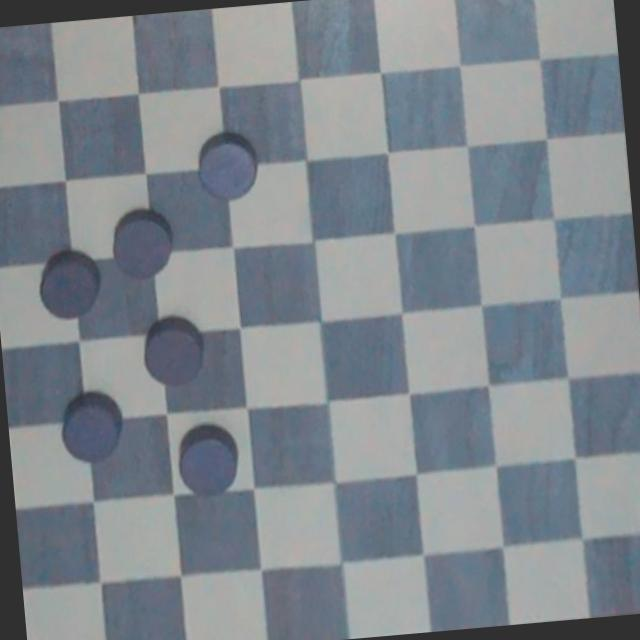BOARD: (0, 0, 640, 640)
black: (132, 310, 212, 394), (29, 243, 102, 330), (190, 130, 269, 207), (54, 388, 130, 468), (106, 206, 180, 286), (172, 424, 246, 502)
